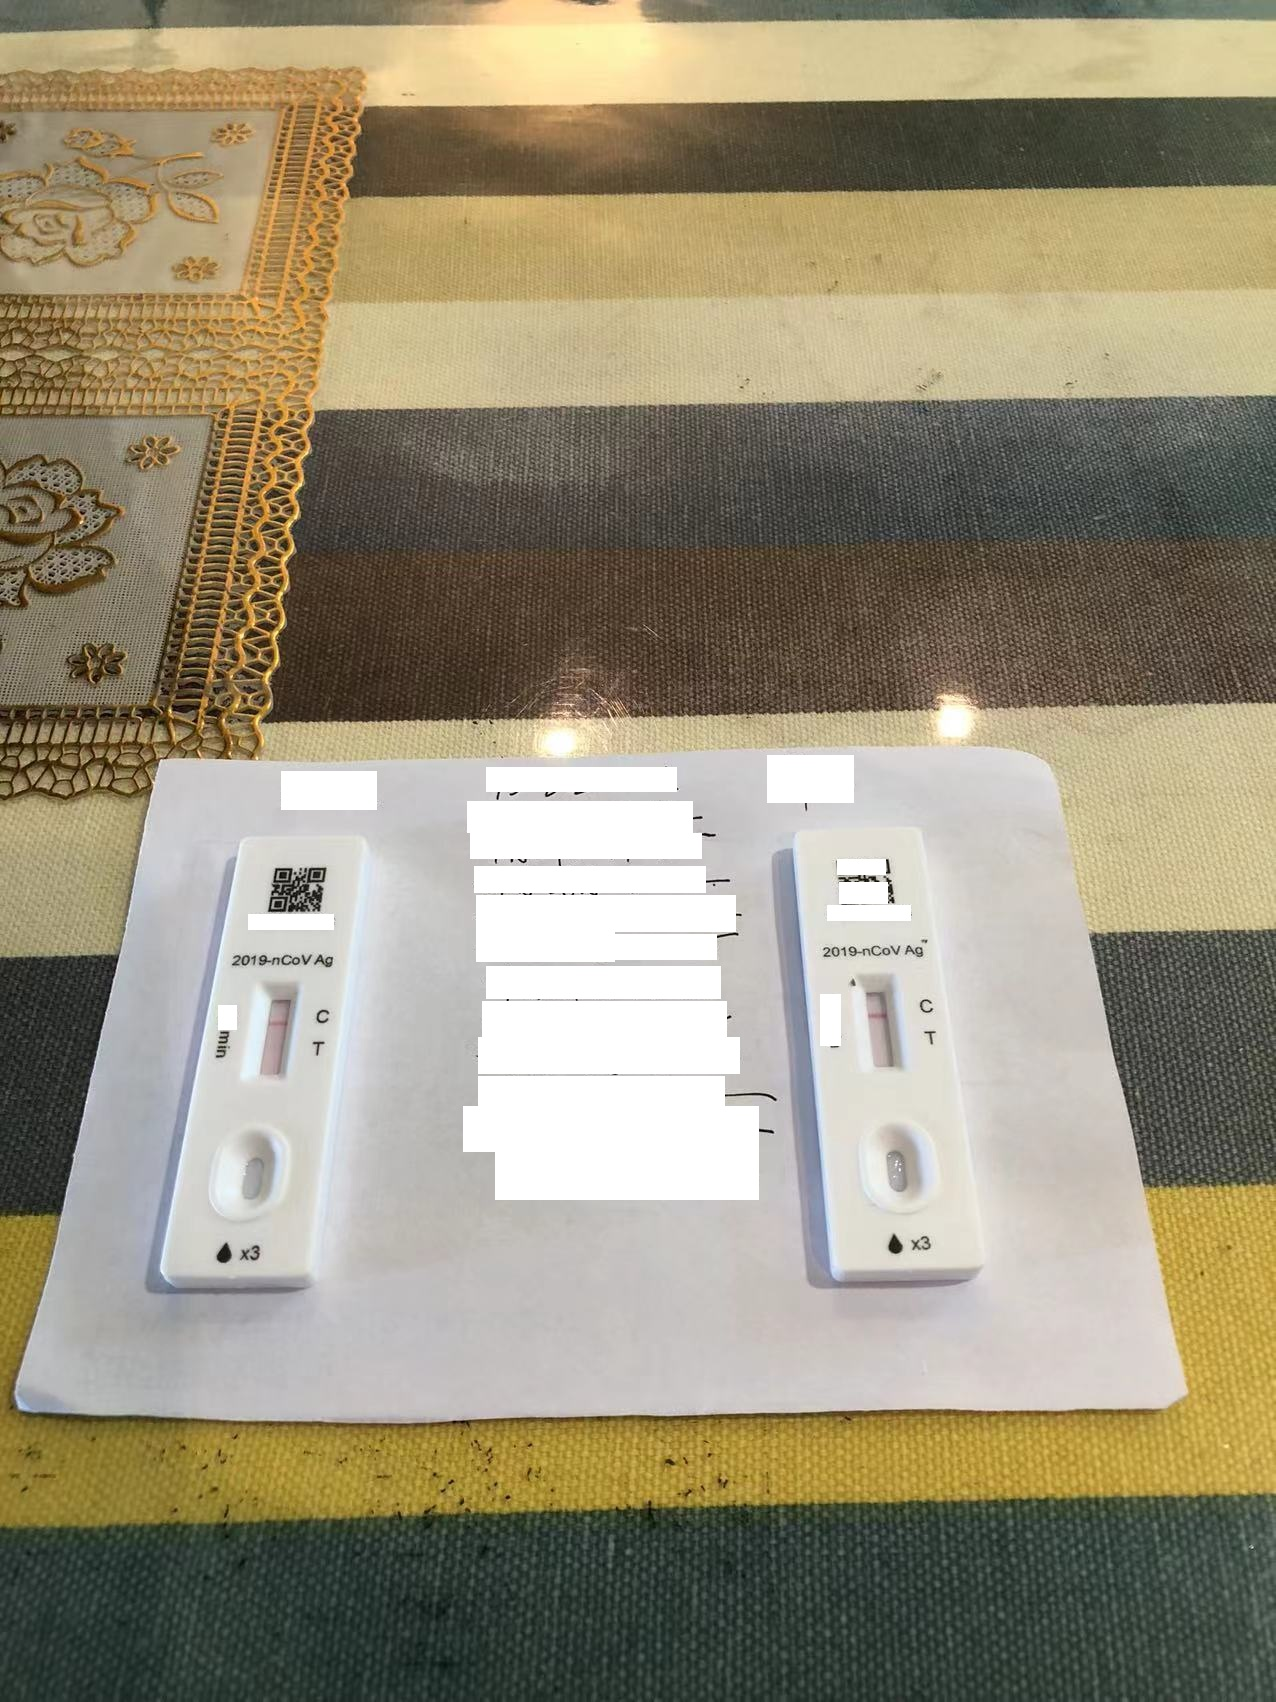negative: (854, 972, 903, 1073)
